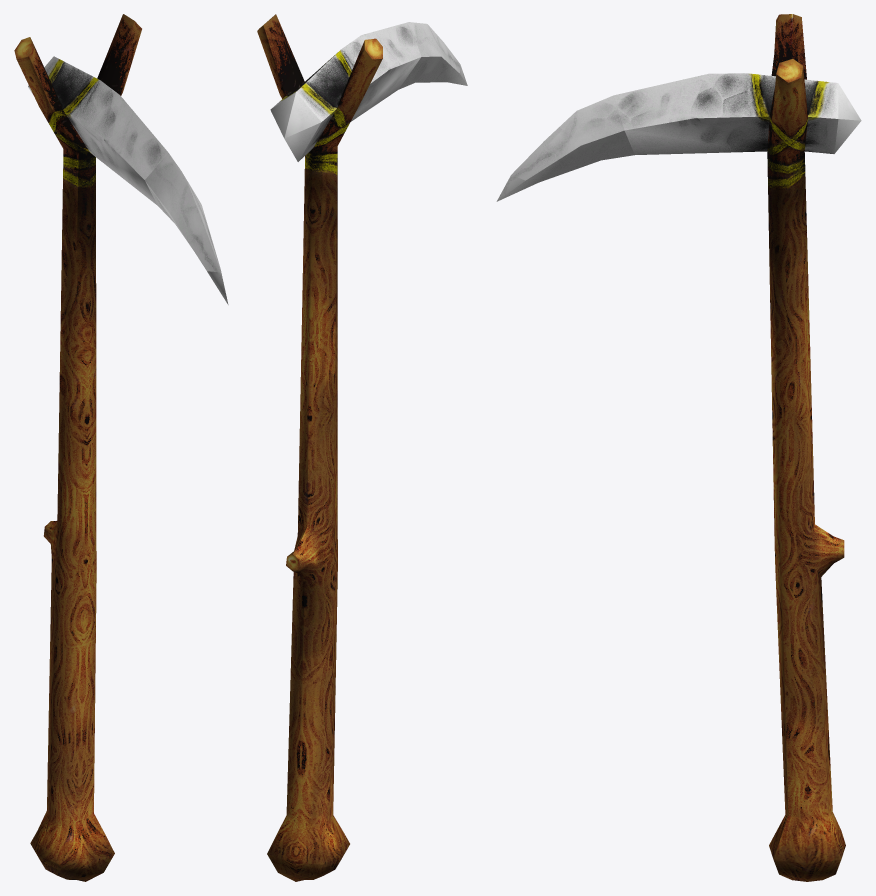
Rendered from PlantFiberPickaxe.glb.
3 views of the same model, side by side, from view 1: azimuth 30°, elevation 25°; view 2: azimuth 150°, elevation 25°; view 3: azimuth 270°, elevation 25° (orthographic). The views are drawn at different scales.
Parts seen in each view (by area): view 1: PickAxe; view 2: PickAxe; view 3: PickAxe.
Boxes of the visible parts, <box> form: PickAxe: <box>14,14,228,881</box>; PickAxe: <box>257,14,467,881</box>; PickAxe: <box>496,14,861,881</box>.
Size of the model in its own units: 0.1112 by 0.7257 by 0.286.
Materials: 1 (1 with a texture image).
